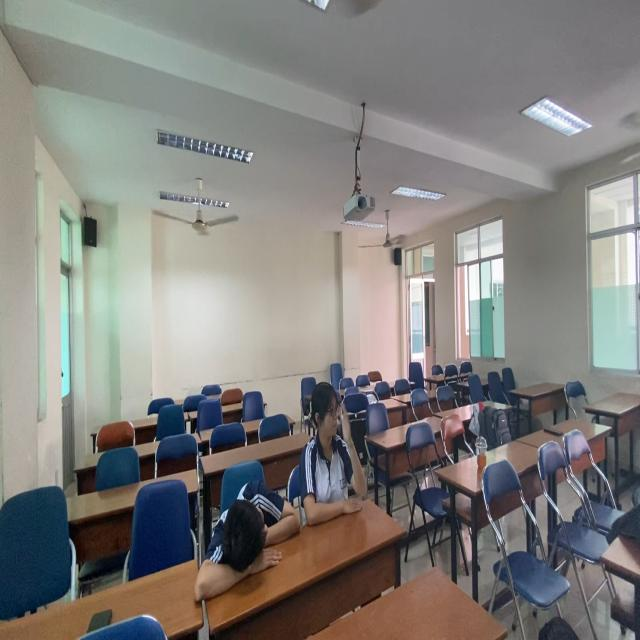raise_hand: (302, 374, 372, 523)
sleep: (190, 484, 303, 614)
